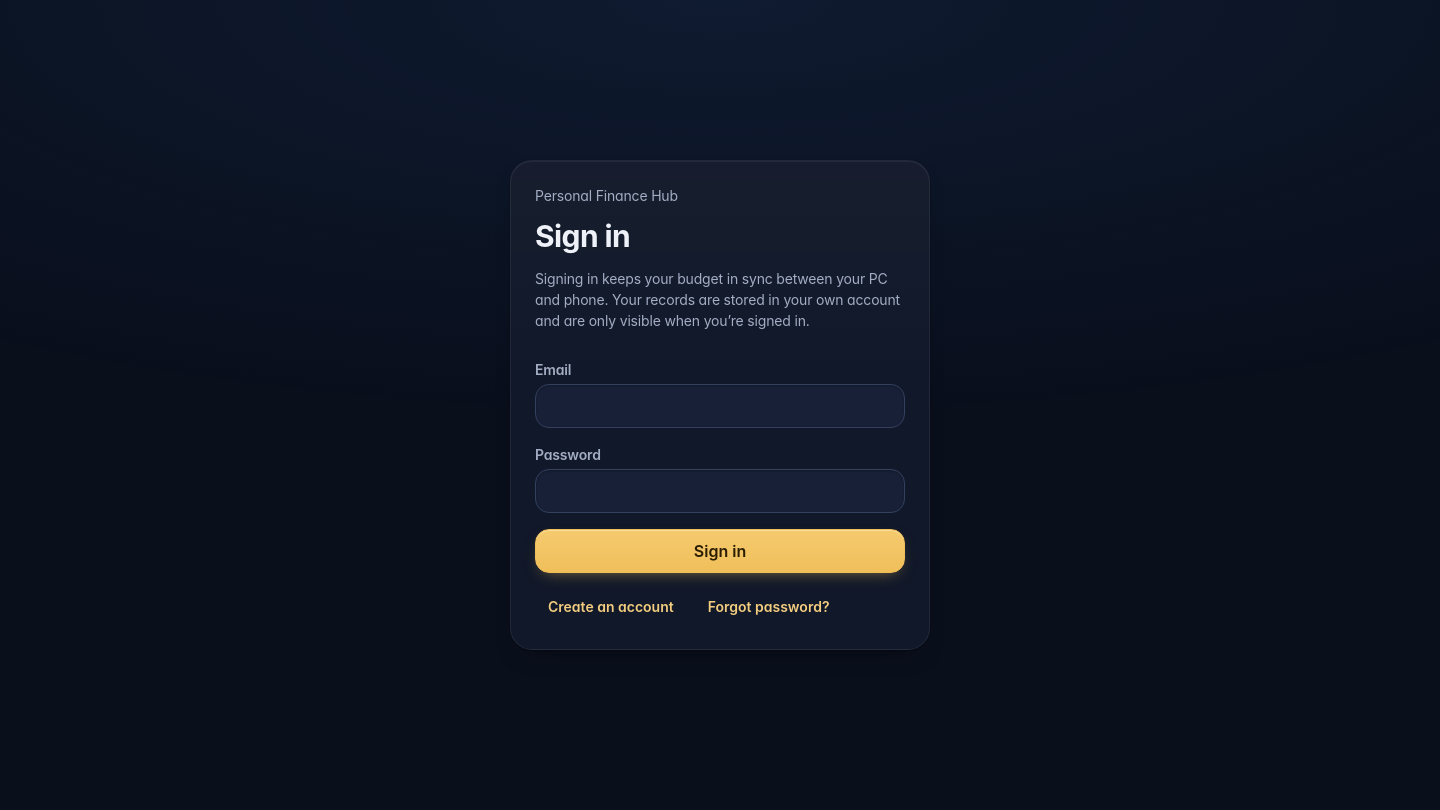
Test: authentication › protects the app behind sign-in and validates the form
Check: the heading "Sign in" is shown, box [535,218,630,254]
What coordinates should you click on to do the following:
click the button "Sign in"
I would click on:
 (720, 551)
Its box is [535,529,905,573].
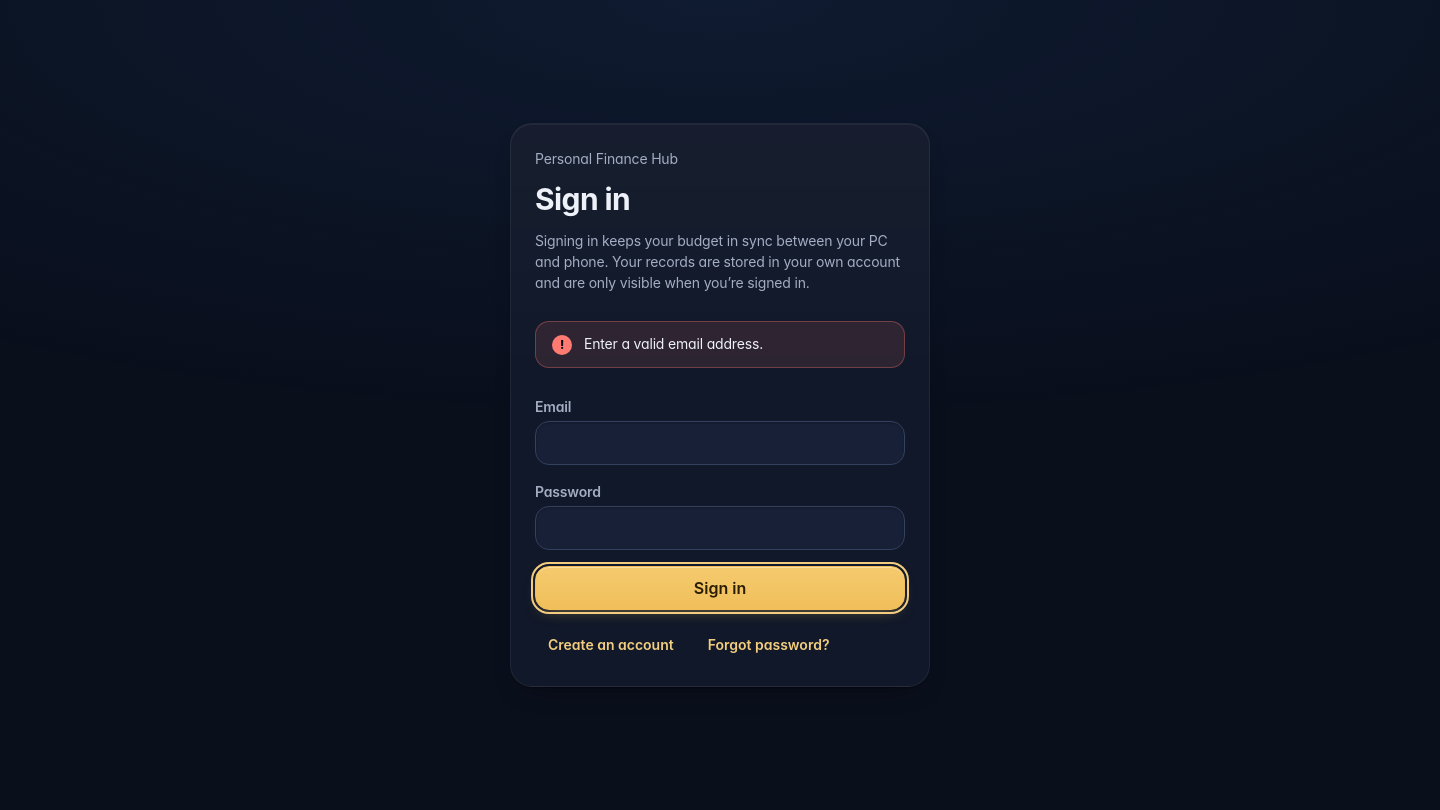
Check: the text "Enter a valid email address." is shown, box [584,334,763,355]
